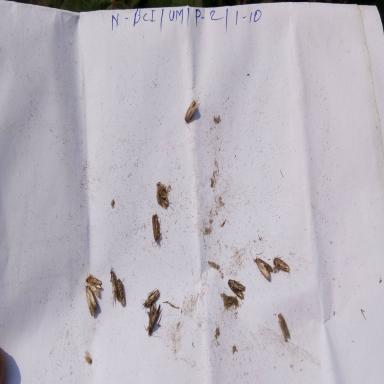pbw: (140, 300, 165, 333), (146, 212, 168, 248), (139, 283, 166, 312), (78, 272, 103, 300), (79, 284, 100, 317), (106, 258, 120, 306), (226, 273, 249, 302), (183, 96, 201, 132), (114, 274, 130, 310), (253, 256, 273, 284), (154, 179, 171, 210), (272, 252, 293, 276), (277, 312, 292, 342)
